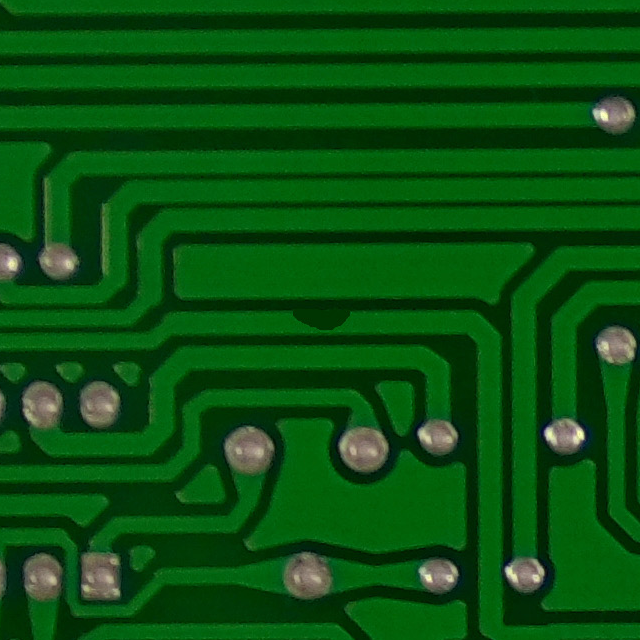mouse_bite: (281, 300, 359, 341)
